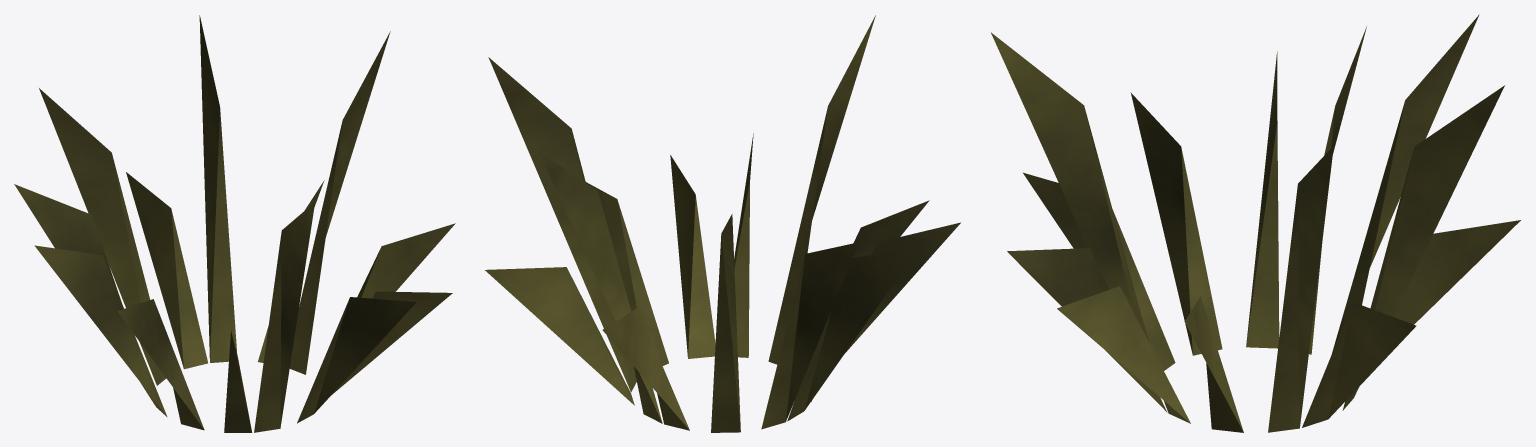
File: grass.glb
The picture shows the model from 3 angles, left to right: view 1: azimuth 30°, elevation 25°; view 2: azimuth 150°, elevation 25°; view 3: azimuth 270°, elevation 25°; orthographic projection. The views are drawn at different scales.
Parts seen in each view (by area): view 1: grass; view 2: grass; view 3: grass.
Boxes of the visible parts, box(x1,y1,x2,y2) form: grass: box(14, 15, 455, 432); grass: box(485, 15, 960, 432); grass: box(991, 14, 1520, 432).
Bounding box in the file's own units: 0.7847 × 0.5818 × 0.7939.
1 material, 1 textured.
